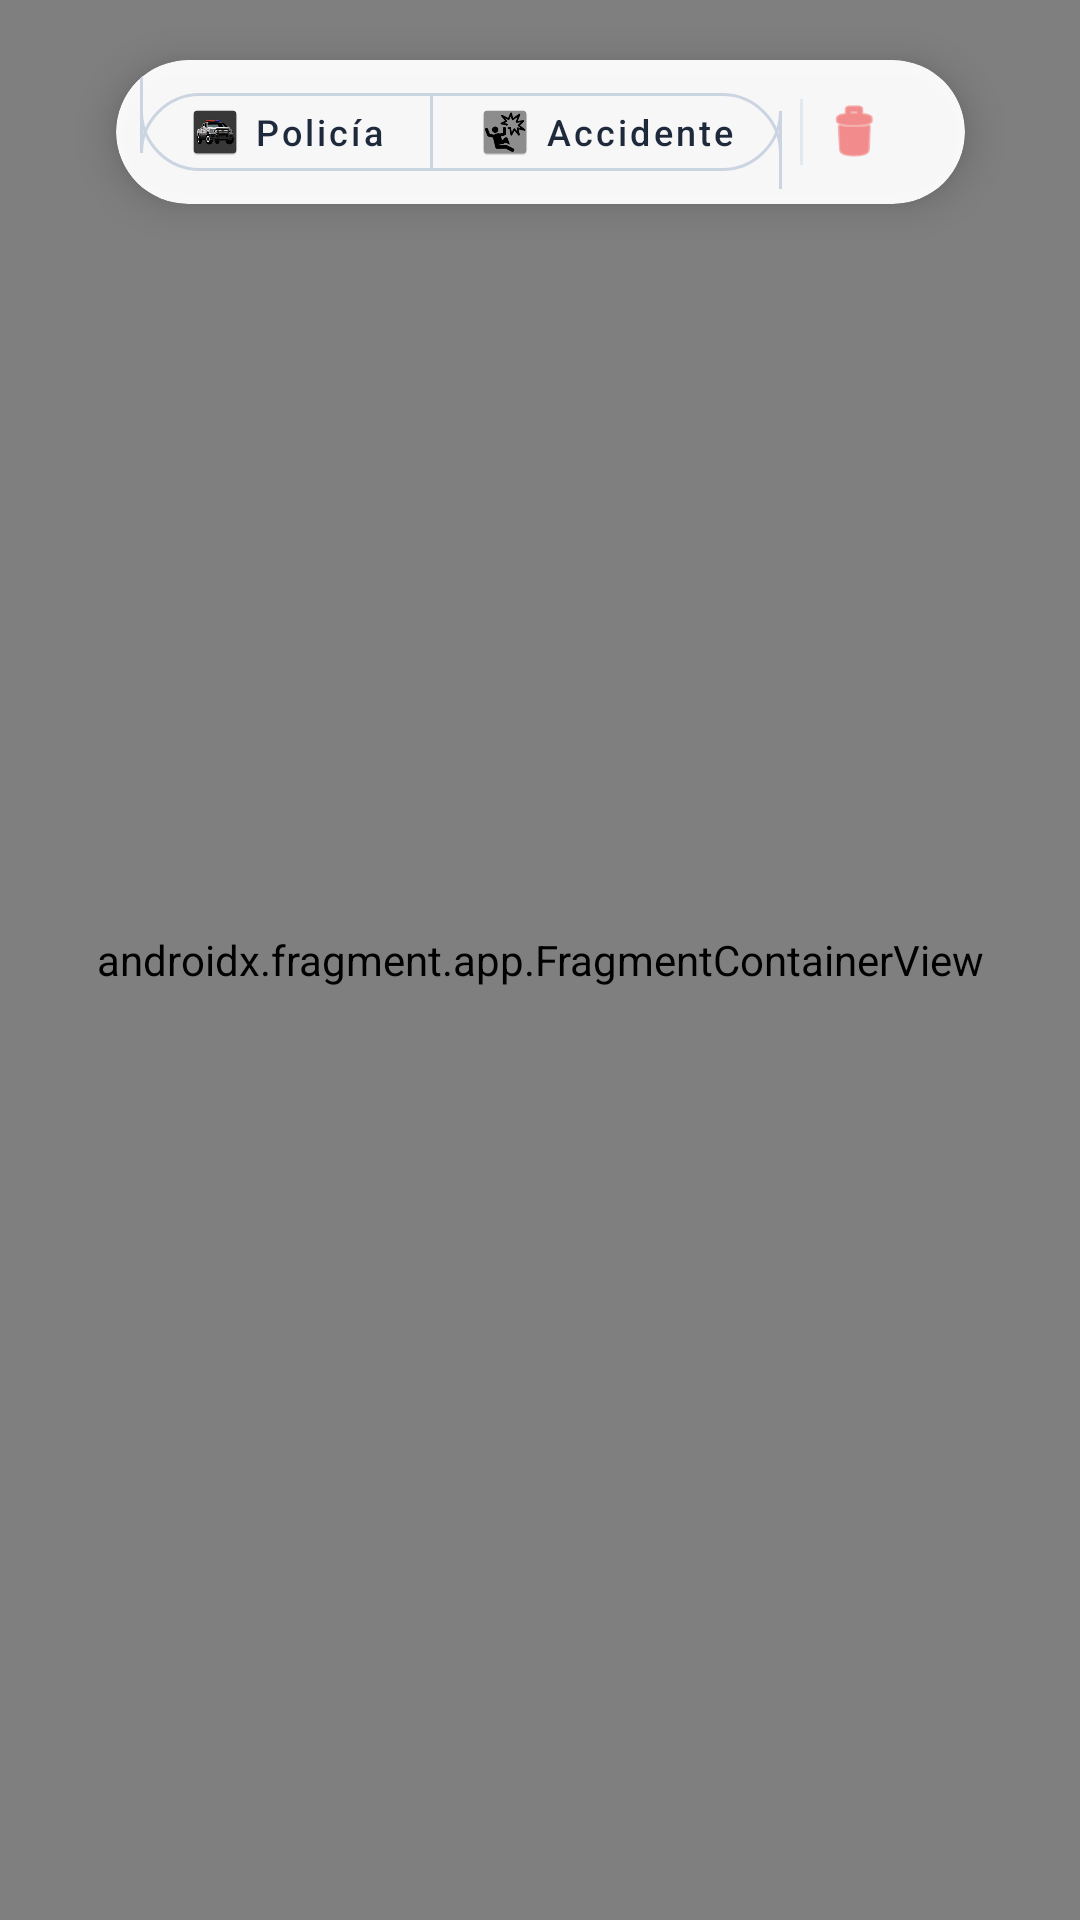

Screen size 1080px×1920px. Icon name, then its box in pixels as (x1, y1, x2, y2):
Limpiar mapa: (836, 105, 873, 157)
